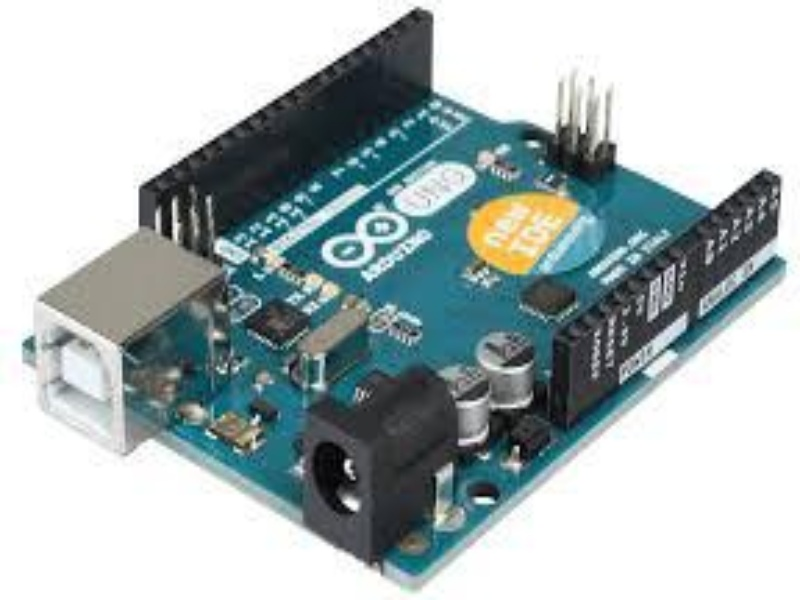uno: (43, 15, 753, 559)
